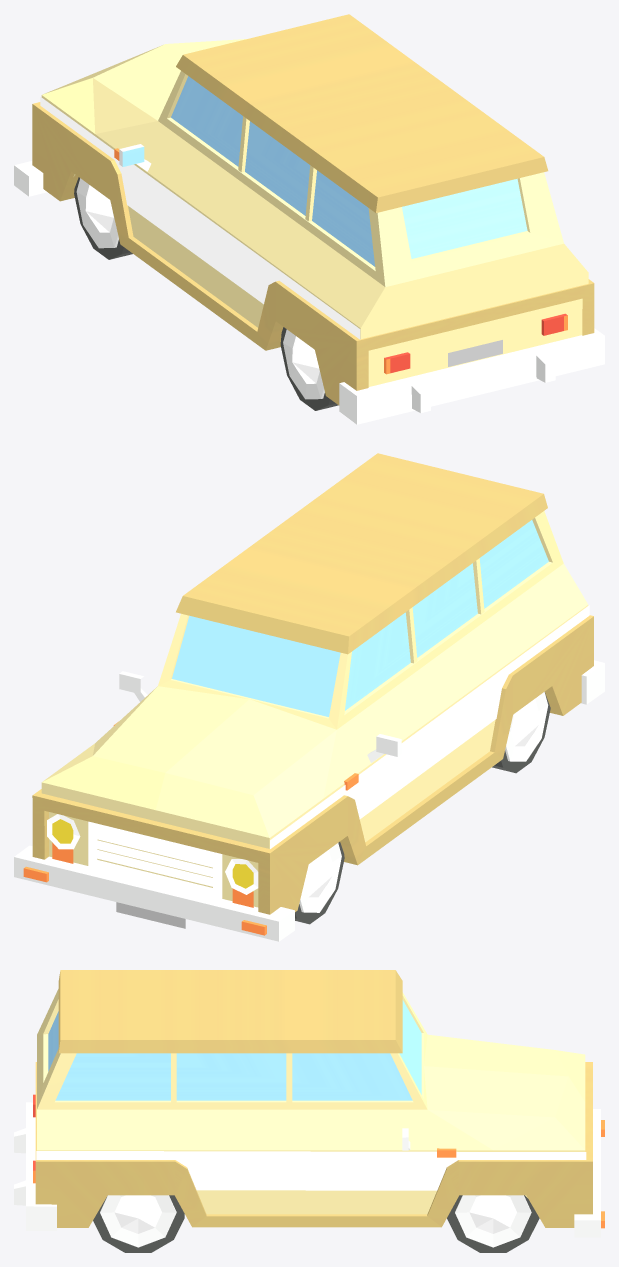
File: transport_cool.007.glb
3 renders of one model, top to bottom at view 1: azimuth 30°, elevation 25°; view 2: azimuth 150°, elevation 25°; view 3: azimuth 270°, elevation 25°, orthographic. The views are drawn at different scales.
Parts seen in each view (by area): view 1: transport_cool.007(Clone); view 2: transport_cool.007(Clone); view 3: transport_cool.007(Clone).
Boxes of the visible parts, x1,y1,x2,y2 form: transport_cool.007(Clone): (14, 14, 604, 424); transport_cool.007(Clone): (14, 453, 604, 941); transport_cool.007(Clone): (14, 970, 604, 1252).
Bounding box in the file's own units: 1.79 × 1.44 × 3.81.
Materials: 1 (1 with a texture image).
